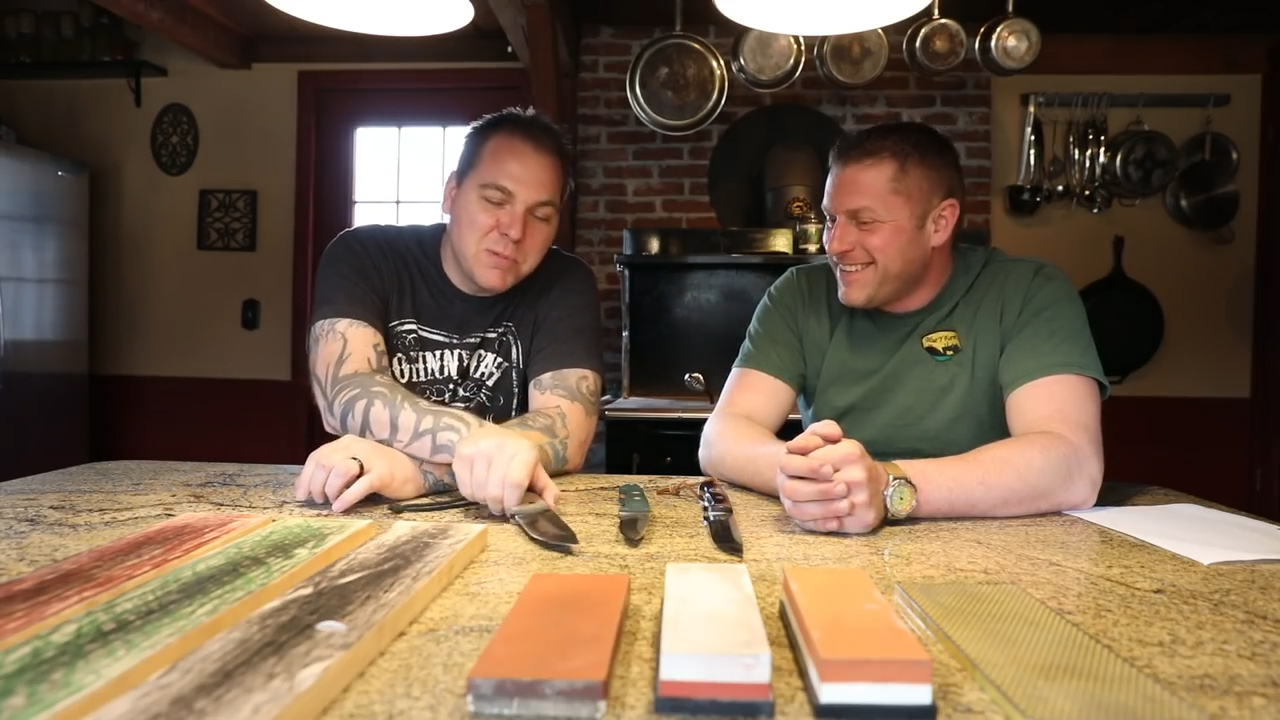knife: (466, 443, 598, 563)
